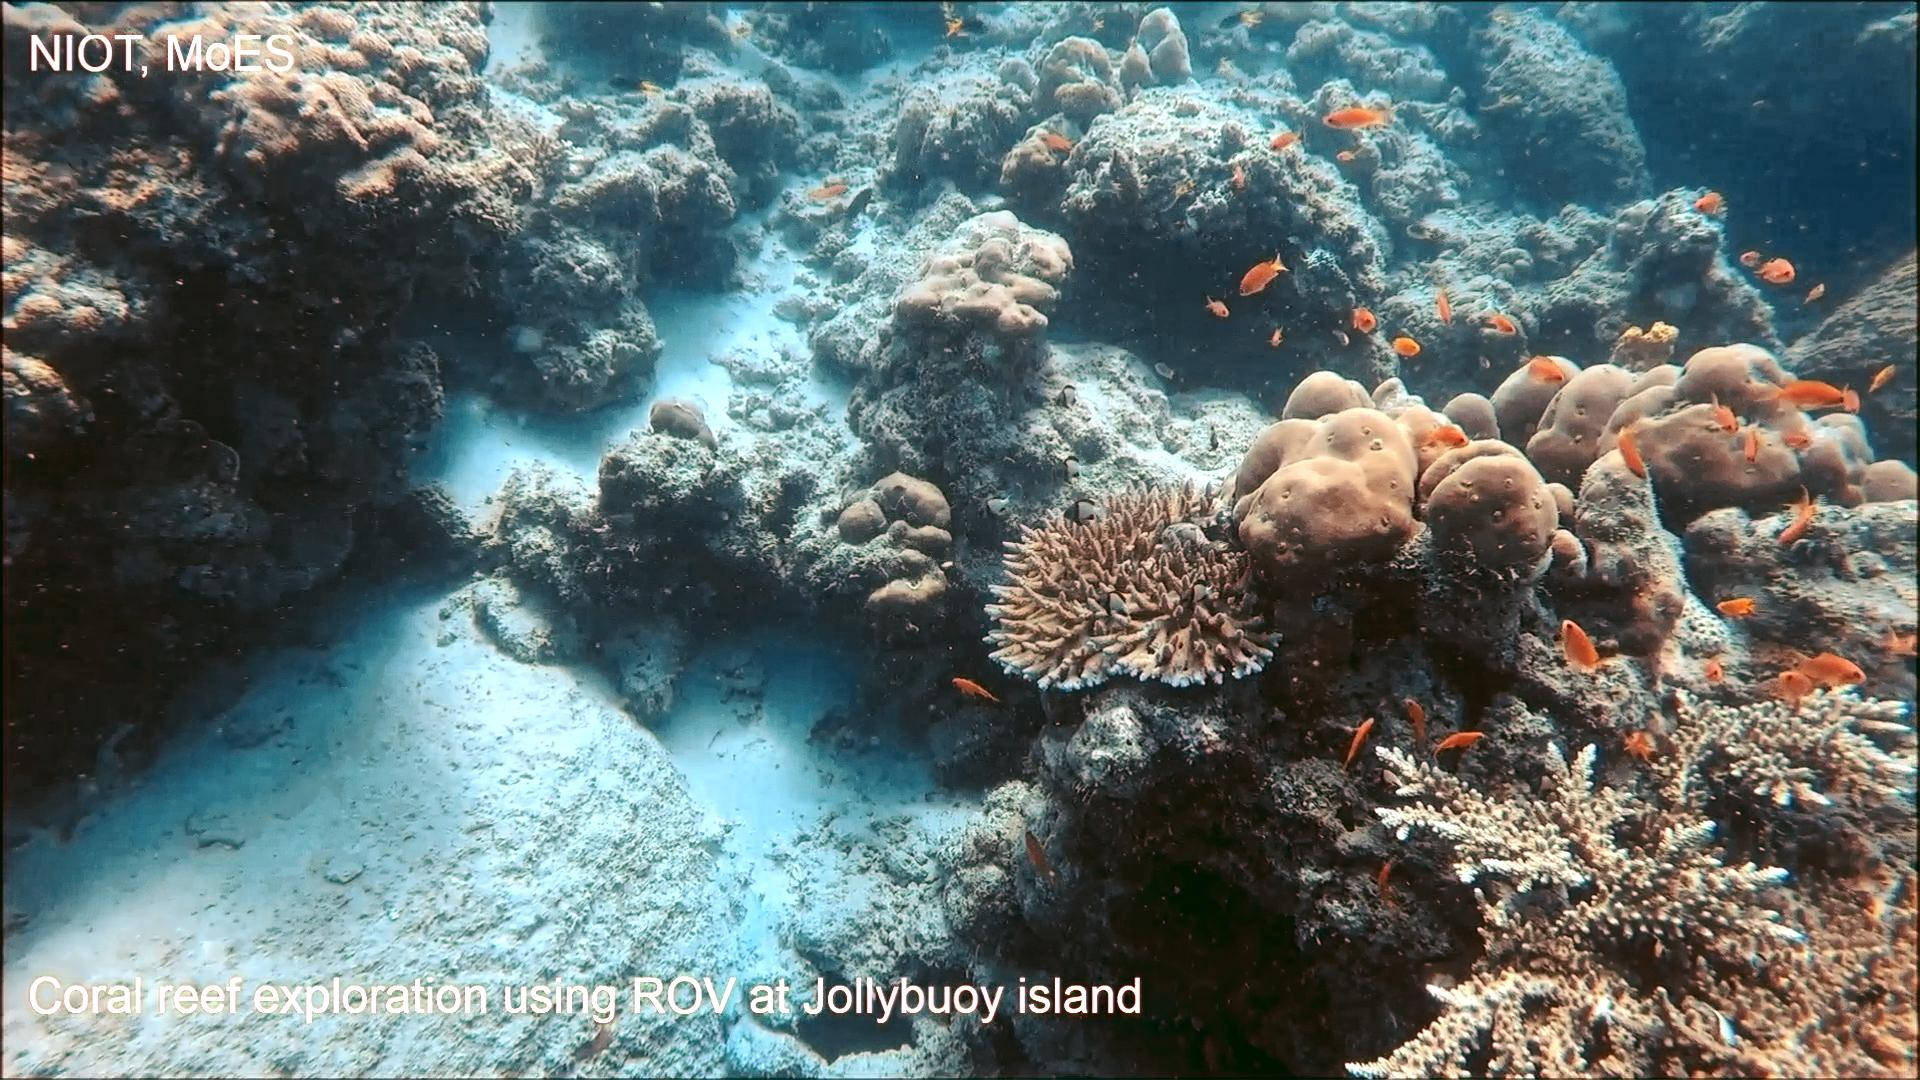Porites-Porites pukoensis: (1470, 334, 1920, 520), (1221, 361, 1569, 591)
